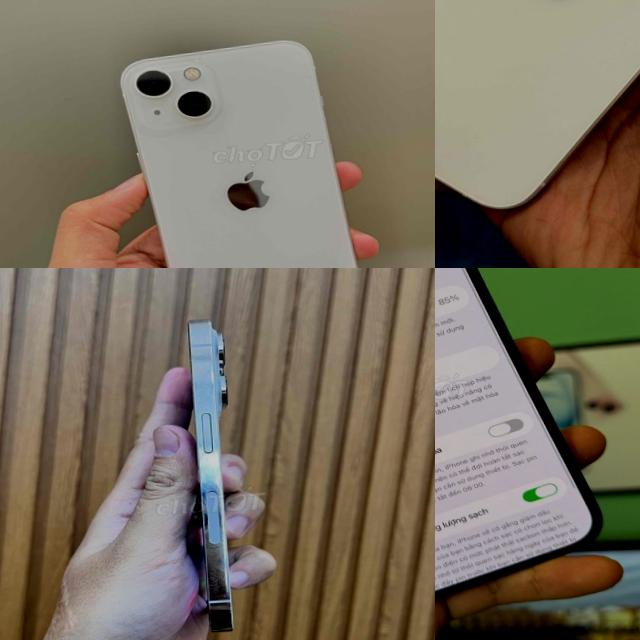gen_12_13: (112, 33, 371, 268)
gen_14: (435, 0, 640, 224), (174, 311, 257, 640)
gen_15: (435, 268, 607, 616)
scratch: (200, 538, 240, 628), (194, 368, 223, 457)
